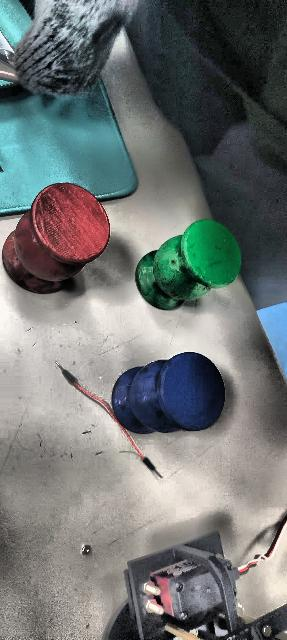blue: (112, 351, 226, 434)
green: (135, 218, 244, 306)
red: (2, 179, 110, 294)
